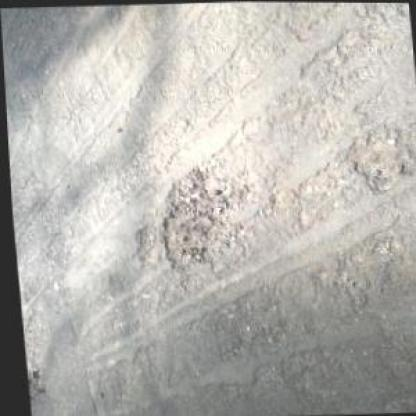pothole: (150, 155, 247, 275), (129, 222, 157, 259)
